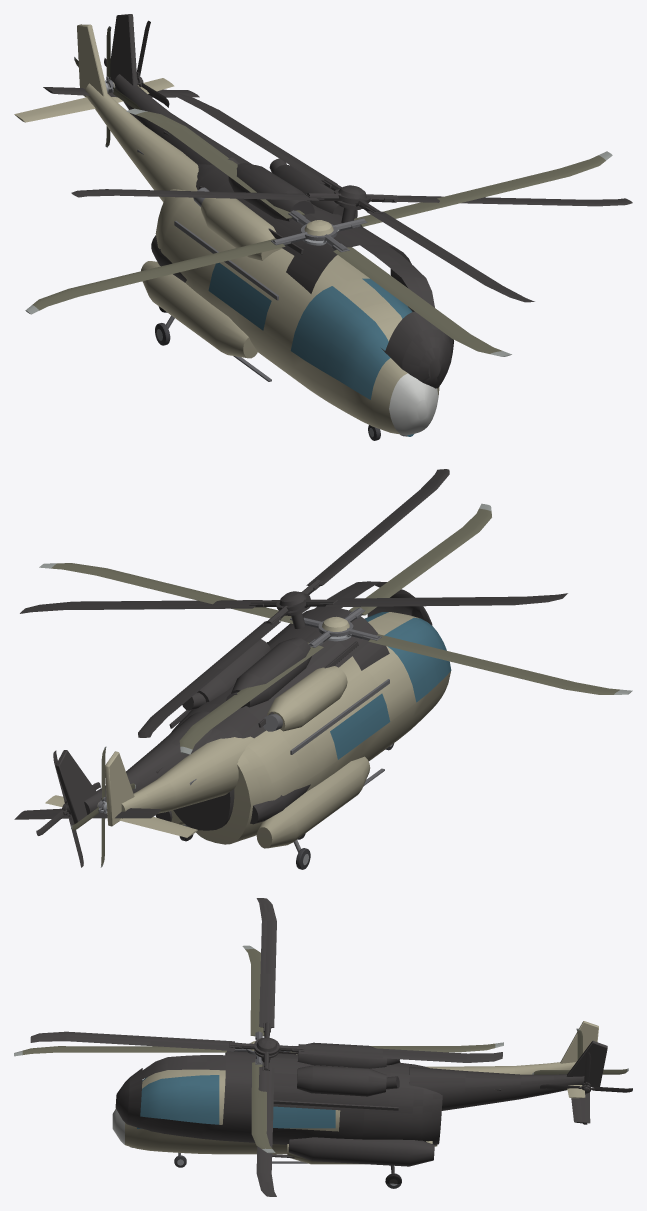
File: helicopter__nh90.glb
The picture shows the model from 3 angles, top to bottom: view 1: azimuth 30°, elevation 25°; view 2: azimuth 150°, elevation 25°; view 3: azimuth 270°, elevation 25°; orthographic projection. The views are drawn at different scales.
Visible parts, largest first — view 1: Fuselage_Mesh, Wreck, Rotor_Main_Mesh, Engines_Mesh, Rotor_Tail_Mesh; view 2: Fuselage_Mesh, Wreck, Rotor_Main_Mesh, Engines_Mesh, Rotor_Tail_Mesh; view 3: Wreck, Fuselage_Mesh, Rotor_Main_Mesh, Rotor_Tail_Mesh.
Boxes of the visible parts, left/top/right/bottom form: Fuselage_Mesh: left=14, top=24, right=439, bottom=436; Wreck: left=43, top=14, right=632, bottom=388; Rotor_Main_Mesh: left=25, top=108, right=612, bottom=356; Engines_Mesh: left=193, top=187, right=281, bottom=260; Rotor_Tail_Mesh: left=74, top=26, right=140, bottom=147; Fuselage_Mesh: left=45, top=612, right=451, bottom=848; Wreck: left=14, top=469, right=567, bottom=867; Rotor_Main_Mesh: left=39, top=503, right=632, bottom=754; Engines_Mesh: left=263, top=666, right=347, bottom=731; Rotor_Tail_Mesh: left=71, top=746, right=135, bottom=867; Wreck: left=30, top=898, right=632, bottom=1196; Fuselage_Mesh: left=112, top=1021, right=598, bottom=1164; Rotor_Main_Mesh: left=14, top=945, right=503, bottom=1153; Rotor_Tail_Mesh: left=532, top=1028, right=628, bottom=1074.
Size of what is drawn, in the model's own units: 16.83 by 6.82 by 20.6.
